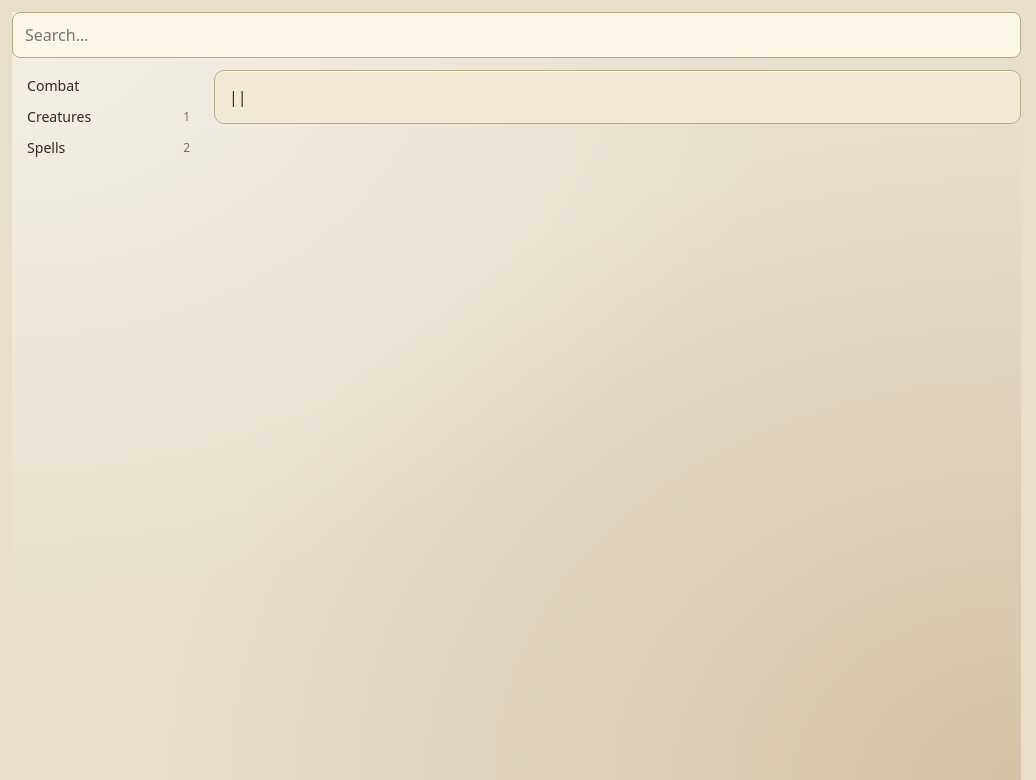
the search of the Reference › a result opens its page on that entry and the search is done
In the search field with test id "ref-search" showing "Search…": (516, 35) [12,12,1021,58], type "fire"
Wait 400 ms
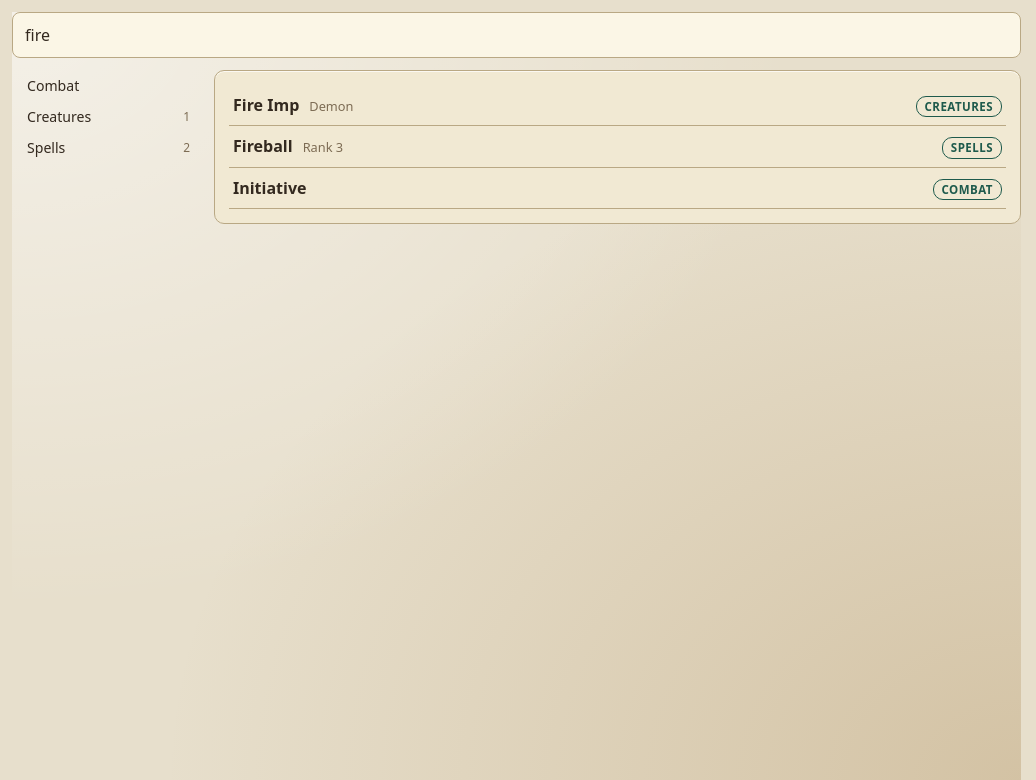
Click the button with test id "ref-hit" showing "Fireball Rank 3 Spells": click(263, 146) [229,126,1006,168]
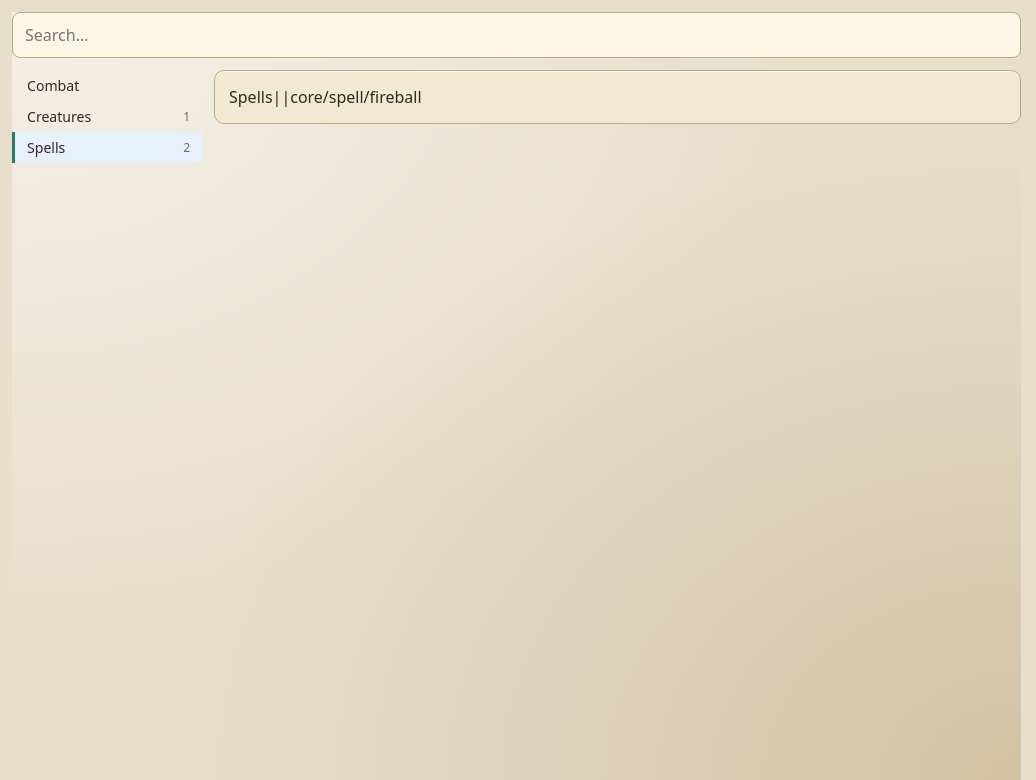
Check: the text with test id "panel" shows "Spells", box [229,86,422,108]
